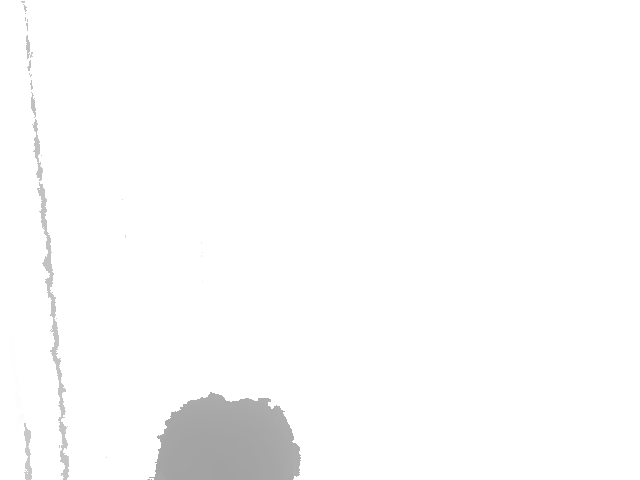person: (146, 392, 303, 480)
